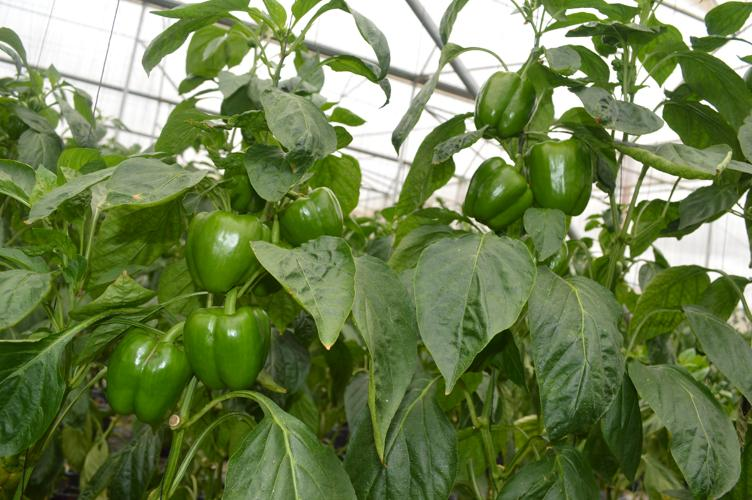BellPepper: (176, 298, 279, 386), (100, 326, 186, 422), (529, 134, 606, 232), (180, 206, 268, 291), (466, 60, 541, 144), (459, 148, 528, 239), (273, 180, 352, 248)
